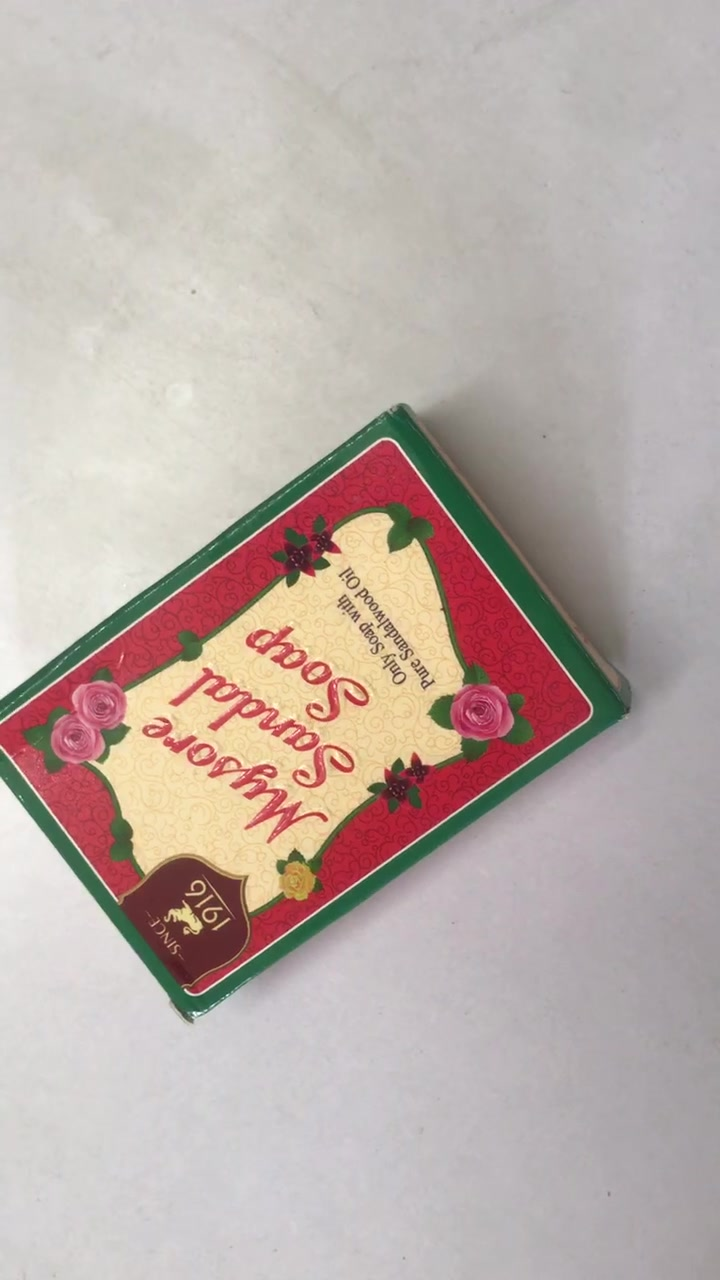mysore sandal soap: (9, 414, 630, 1023)
